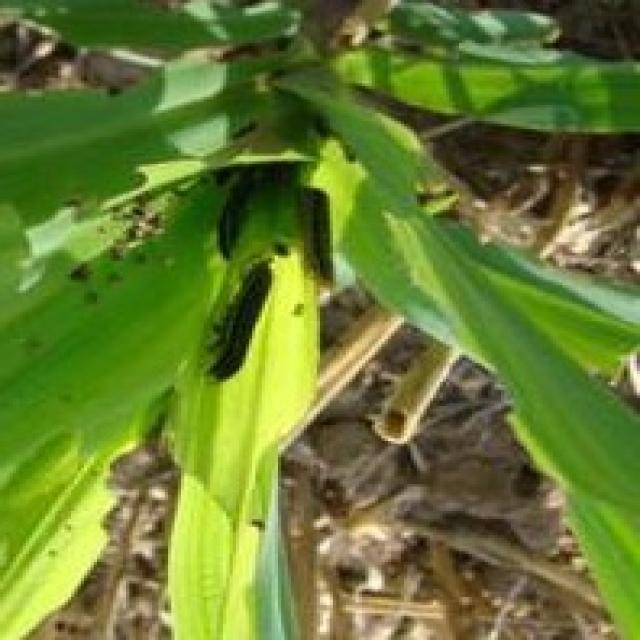army worm: (211, 254, 276, 394), (286, 180, 344, 295), (199, 157, 257, 264)
